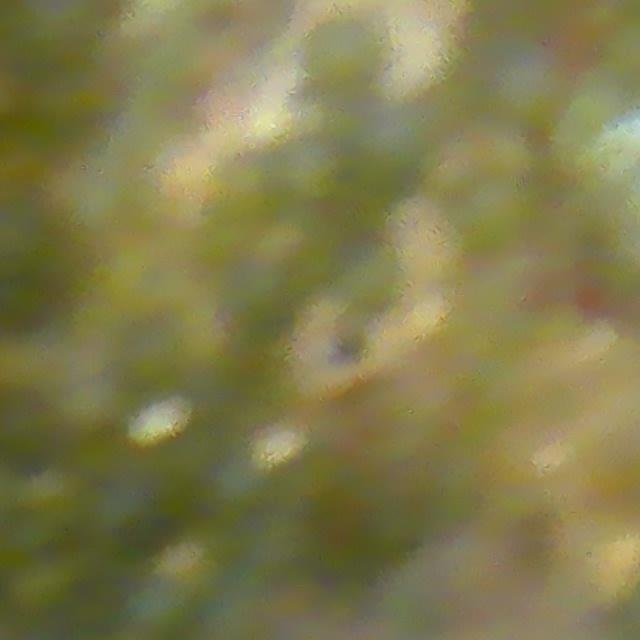SeaGrape: (467, 180, 537, 239), (321, 31, 384, 89), (281, 137, 337, 193)
